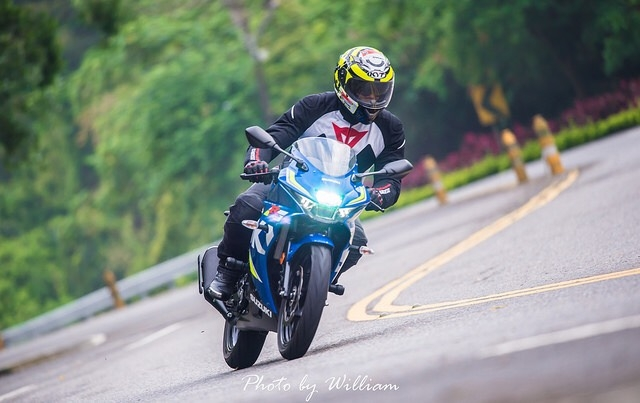helmet: (330, 49, 402, 113)
